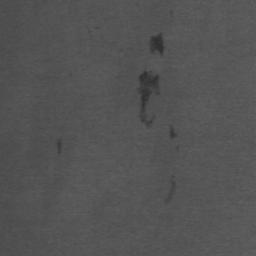Iron scale compression: (138, 71, 160, 129), (150, 33, 164, 57), (165, 180, 176, 204), (168, 125, 176, 142), (57, 139, 61, 153)
